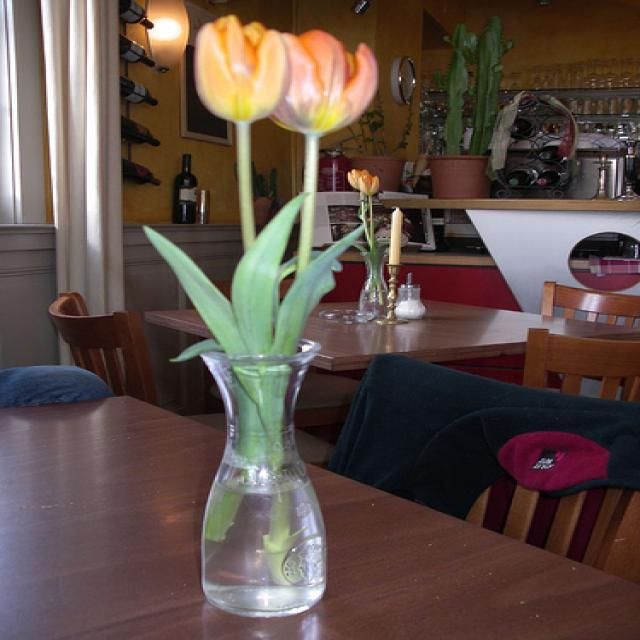chair: (329, 354, 640, 566), (49, 292, 160, 403), (519, 325, 640, 404), (1, 365, 117, 408), (540, 279, 640, 328)
dining table: (2, 391, 638, 640), (146, 299, 640, 359)
